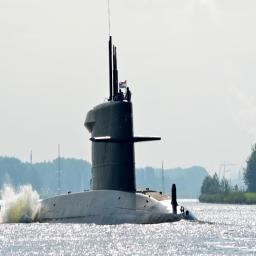submarine: (13, 38, 199, 224)
